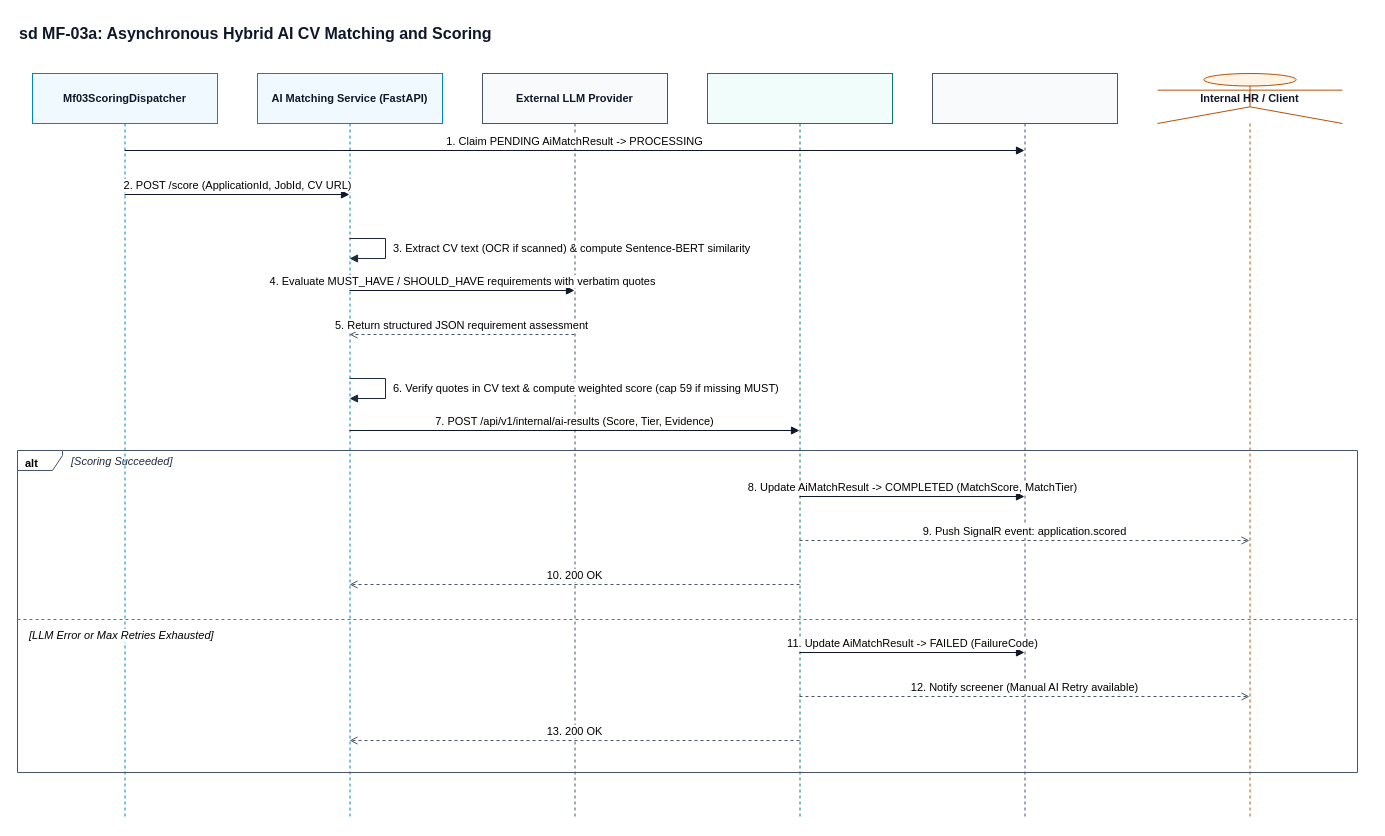
Image size: 1385x836. Some labels were removed from this diagram. Here are the shapes that lost their labels. From the top down, the box of each, then its label:
(706, 72, 892, 818): AiIntegrationEndpoints
(932, 72, 1118, 818): PostgreSQL
